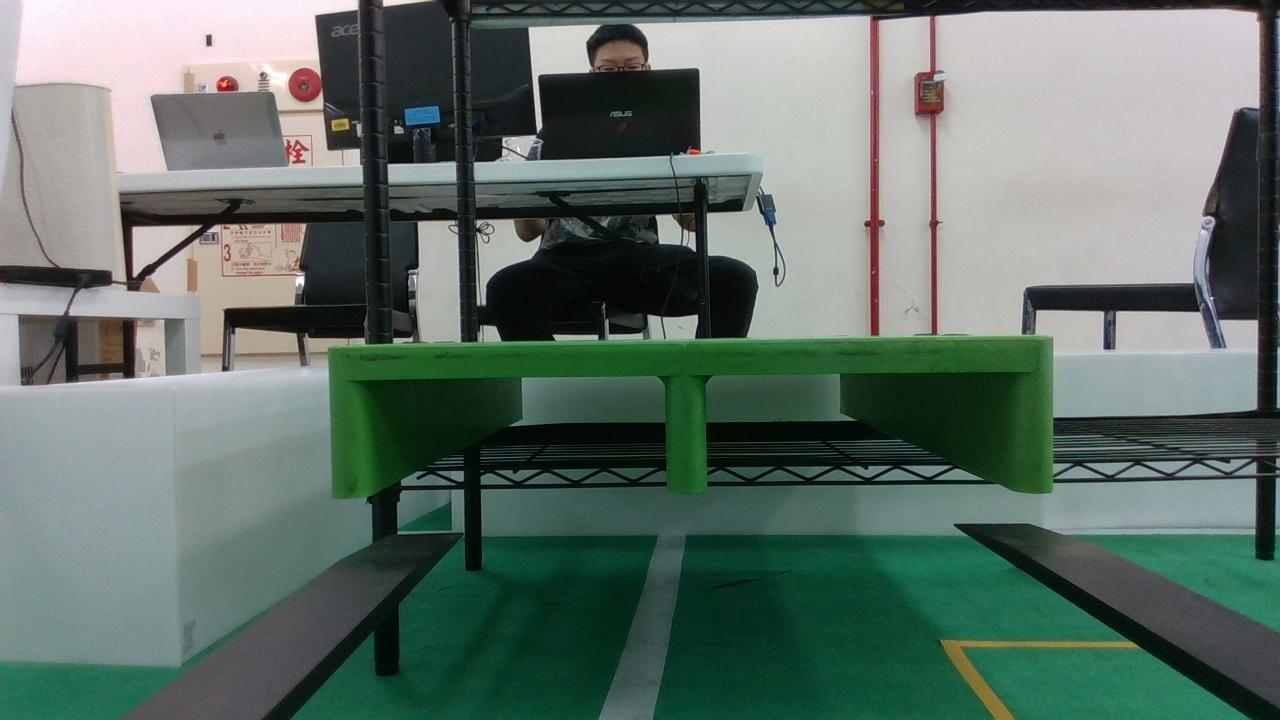Pallet: (328, 337, 1054, 500)
